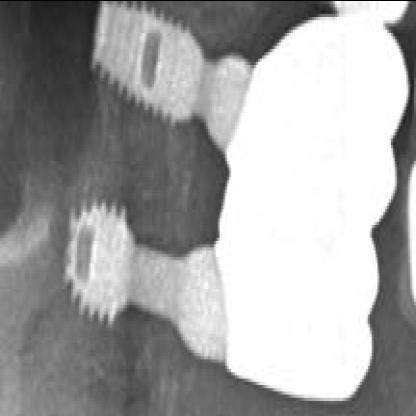Bicon: (90, 0, 190, 132), (62, 196, 138, 329)
